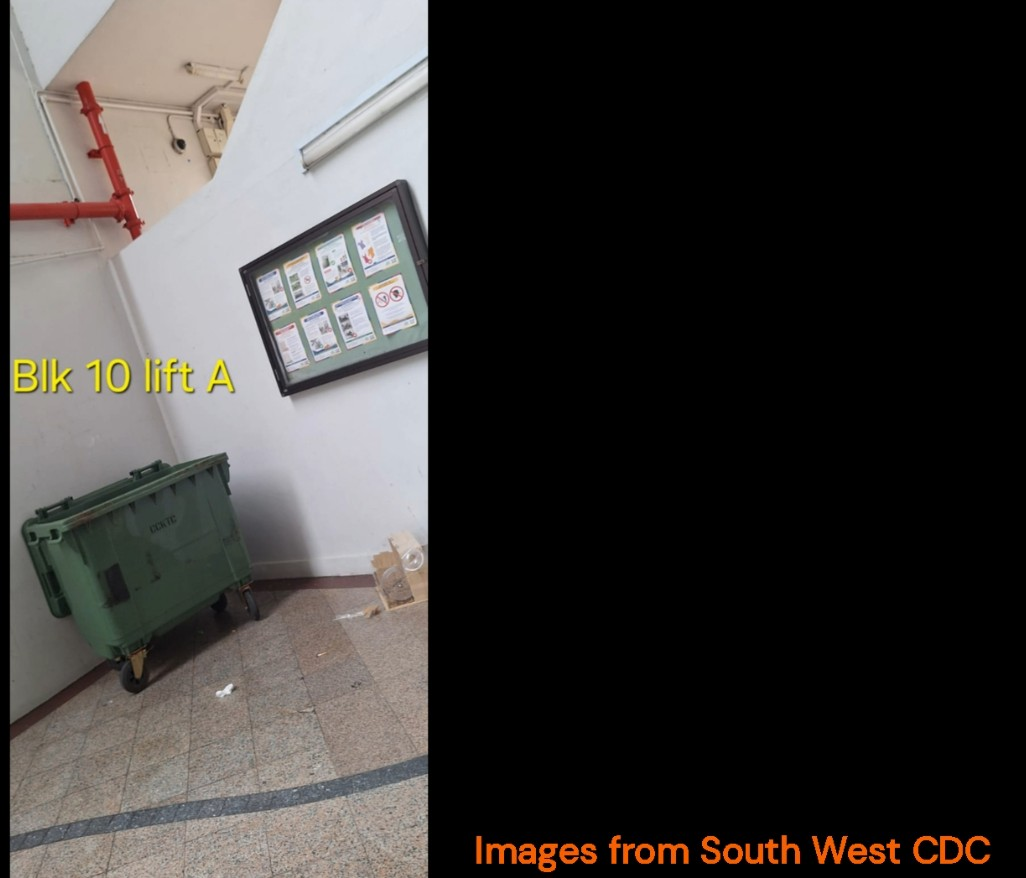bin_empty: (22, 453, 260, 692)
bulk_waste: (373, 532, 427, 608)
